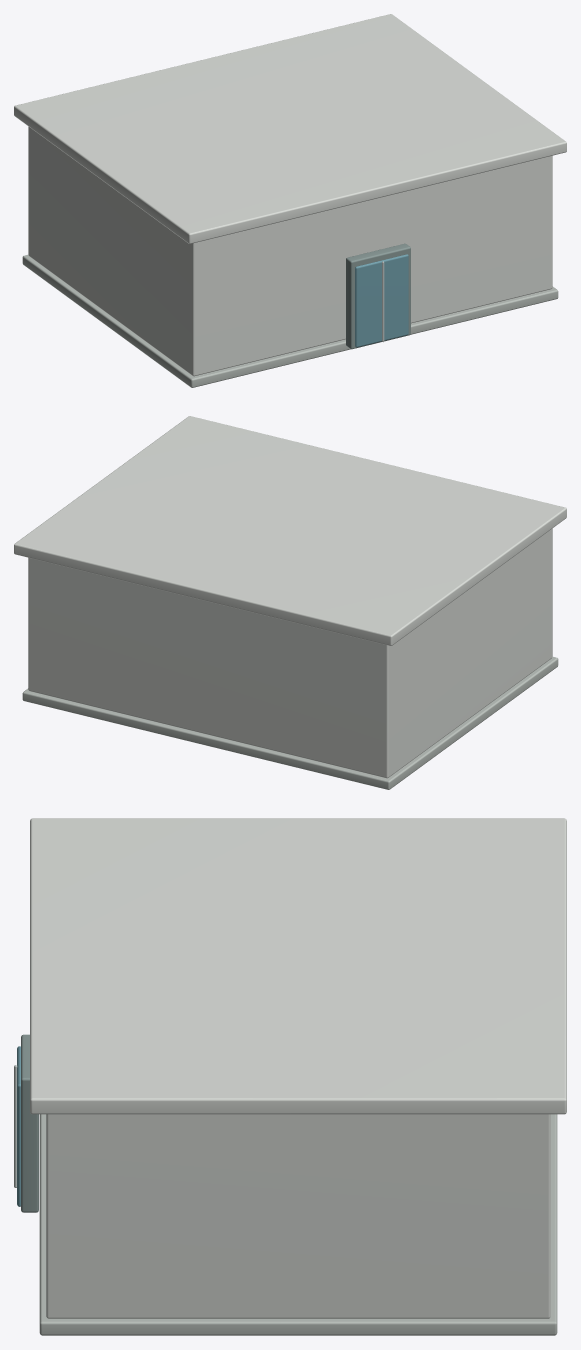
File: flat.glb
3 renders of one model, top to bottom at view 1: azimuth 30°, elevation 25°; view 2: azimuth 150°, elevation 25°; view 3: azimuth 270°, elevation 25°, orthographic. The views are drawn at different scales.
Parts seen in each view (by area): view 1: Flat roof slab, Building shell.001, Foundation.001, Entrance double glass doors.001, Entrance door frame.001; view 2: Flat roof slab, Building shell.001, Foundation.001; view 3: Flat roof slab, Building shell.001, Foundation.001, Entrance door frame.001, Entrance double glass doors.001.
Boxes of the visible parts, <box> form: Flat roof slab: <box>14,14,566,243</box>; Building shell.001: <box>28,126,552,376</box>; Foundation.001: <box>22,254,558,387</box>; Entrance double glass doors.001: <box>355,254,408,347</box>; Entrance door frame.001: <box>346,243,410,349</box>; Flat roof slab: <box>14,416,566,645</box>; Building shell.001: <box>28,528,552,778</box>; Foundation.001: <box>22,656,558,789</box>; Flat roof slab: <box>30,818,566,1114</box>; Building shell.001: <box>46,1114,550,1318</box>; Foundation.001: <box>39,1114,557,1335</box>; Entrance door frame.001: <box>21,1034,38,1212</box>; Entrance double glass doors.001: <box>17,1046,20,1206</box>.
Bounding box in the file's own units: 10.3 × 4.12 × 8.55.
